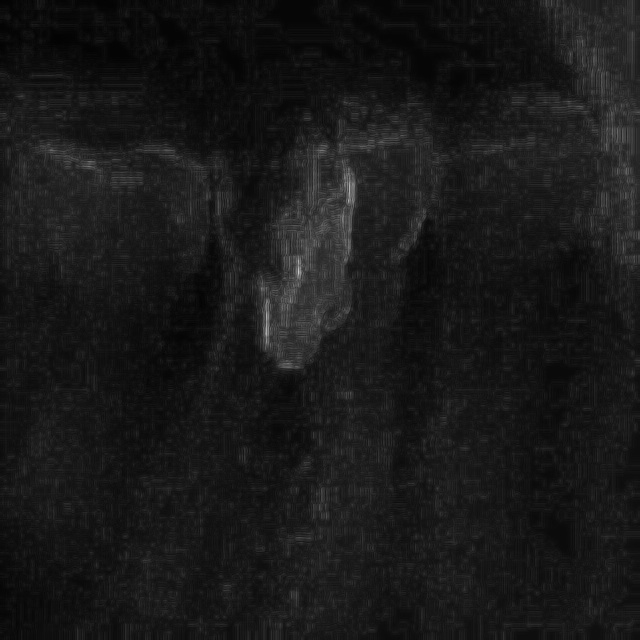Class 2- incomplete endodontic treatment: (133, 54, 476, 635)
